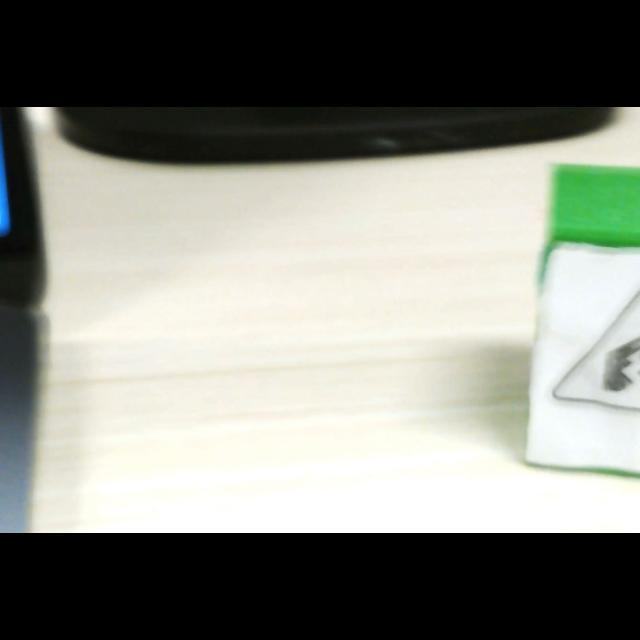Earthquake: (552, 289, 640, 411)
